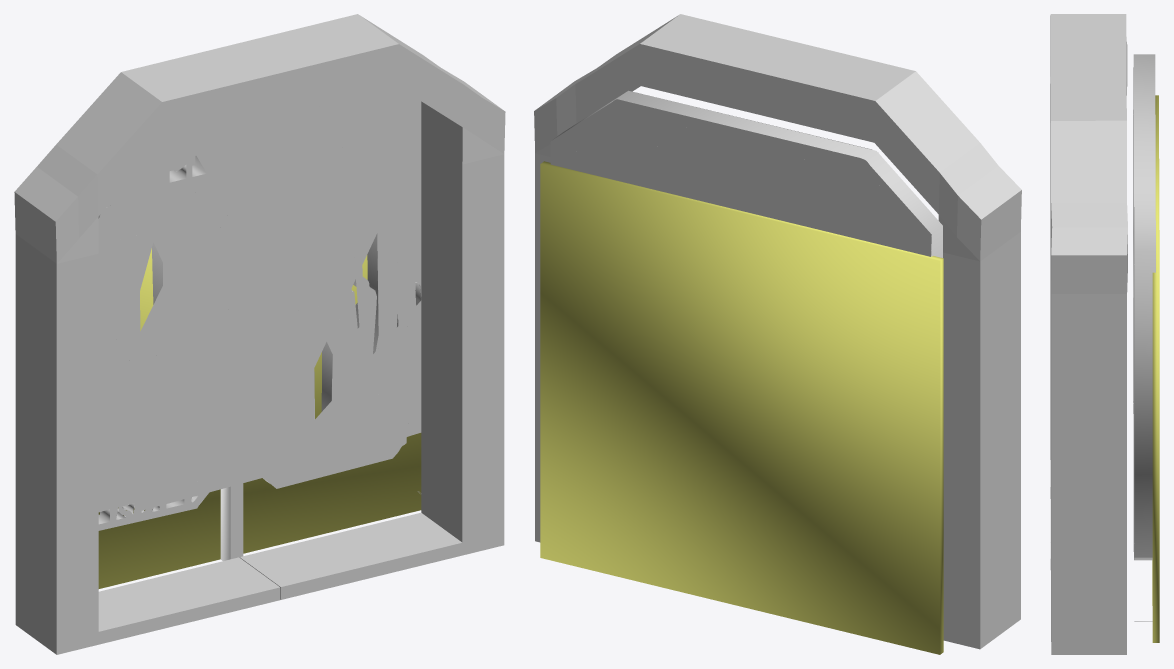
Rendered from MetalDoor.fbx.
3 views of the same model, side by side, from view 1: azimuth 30°, elevation 25°; view 2: azimuth 150°, elevation 25°; view 3: azimuth 270°, elevation 25° (orthographic). The views are drawn at different scales.
Visible parts, largest first — view 1: DoorFrame, DoorPattern, DoorPanel; view 2: DoorPanel, DoorFrame, DoorPattern; view 3: DoorFrame, DoorPattern, DoorPanel.
Part boxes in pixels (<box>): DoorFrame: <box>14,14,505,654</box>; DoorPattern: <box>98,86,421,560</box>; DoorPanel: <box>98,248,421,588</box>; DoorPanel: <box>540,161,943,654</box>; DoorFrame: <box>534,14,1021,649</box>; DoorPattern: <box>550,90,942,257</box>; DoorFrame: <box>1050,14,1127,654</box>; DoorPattern: <box>1133,54,1155,621</box>; DoorPanel: <box>1152,95,1159,642</box>.
Size of the model in its own units: 265 by 296 by 60.38.
